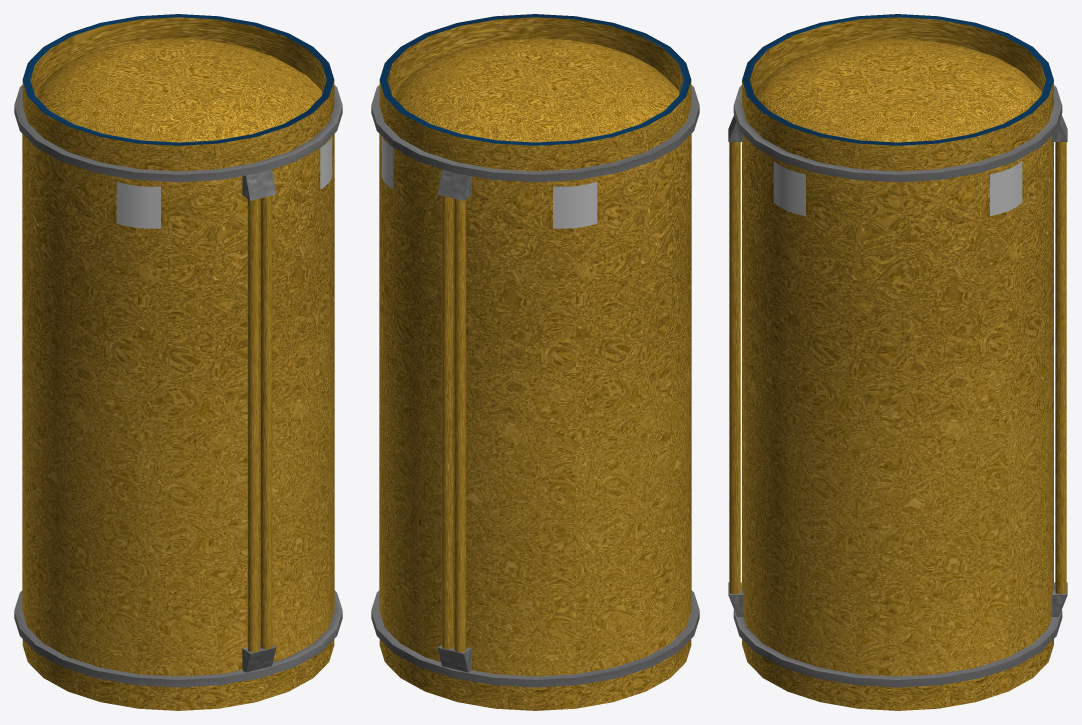
File: FLM-14400G.FBX
3 renders of one model, left to right at view 1: azimuth 30°, elevation 25°; view 2: azimuth 150°, elevation 25°; view 3: azimuth 270°, elevation 25°, orthographic.
Parts seen in each view (by area): view 1: TankBody, EndCap001, TankSleeve001, TankSleeve002, FuelPipe001, FuelPipe002, BarrelBand003, BarrelBand002, decalPanel002, FuelPlug001, FuelPlug002, decalPanel001; view 2: TankBody, EndCap001, TankSleeve001, TankSleeve002, FuelPipe003, FuelPipe004, BarrelBand003, BarrelBand002, decalPanel003, FuelPlug004, FuelPlug003, decalPanel004; view 3: TankBody, EndCap001, TankSleeve001, TankSleeve002, FuelPipe002, FuelPipe004, BarrelBand003, BarrelBand002, decalPanel001, decalPanel004.
Part boxes in pixels (x1,y1,x2,y2): TankBody: (22,134,334,676); EndCap001: (34,38,322,142); TankSleeve001: (22,14,334,171); TankSleeve002: (22,639,334,710); FuelPipe001: (247,198,259,652); FuelPipe002: (260,195,272,649); BarrelBand003: (14,85,342,182); BarrelBand002: (14,590,342,687); decalPanel002: (116,182,160,228); FuelPlug001: (242,169,276,200); FuelPlug002: (242,645,276,672); decalPanel001: (320,136,332,189); TankBody: (379,134,691,676); EndCap001: (391,38,679,142); TankSleeve001: (379,14,691,171); TankSleeve002: (379,639,691,710); FuelPipe003: (454,198,466,652); FuelPipe004: (441,195,453,649); BarrelBand003: (371,85,699,182); BarrelBand002: (371,590,699,687); decalPanel003: (553,182,597,228); FuelPlug004: (437,169,471,200); FuelPlug003: (437,645,471,672); decalPanel004: (381,136,393,189); TankBody: (742,136,1053,676); EndCap001: (754,39,1041,142); TankSleeve001: (742,14,1053,171); TankSleeve002: (742,639,1053,710); FuelPipe002: (729,142,740,594); FuelPipe004: (1055,142,1066,594); BarrelBand003: (733,85,1062,182); BarrelBand002: (733,610,1062,687); decalPanel001: (773,161,805,216); decalPanel004: (990,161,1022,216).
Size of what is drawn, in the model's own units: 3.95 by 7.49 by 4.08.
